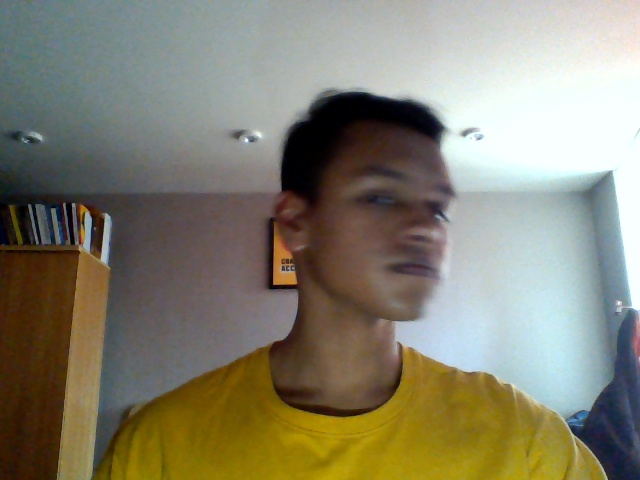no_mask: (311, 219, 453, 322)
